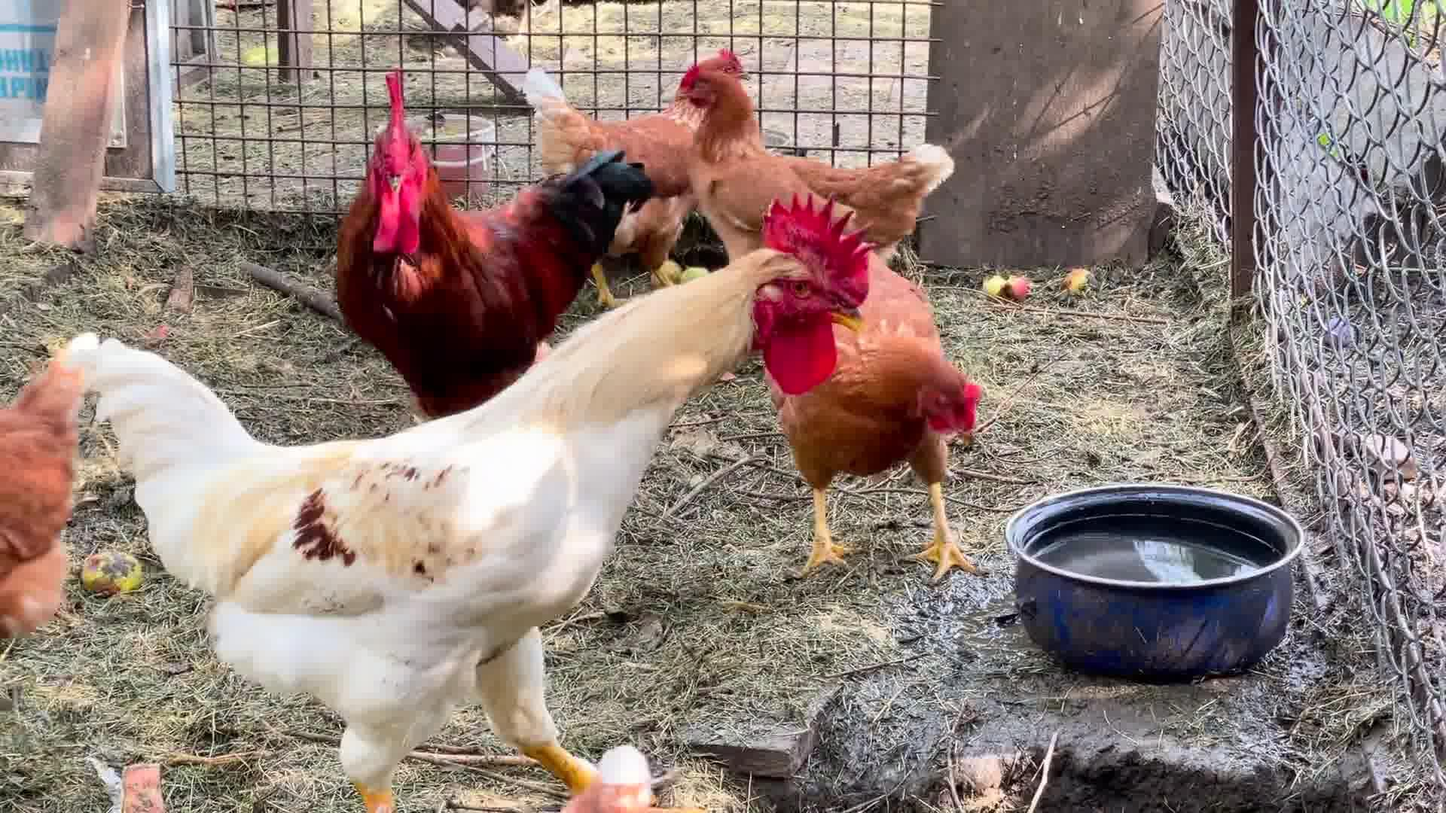Normal: (78, 192, 870, 788), (326, 64, 649, 405), (682, 59, 960, 288), (795, 285, 997, 595), (524, 44, 754, 243)
